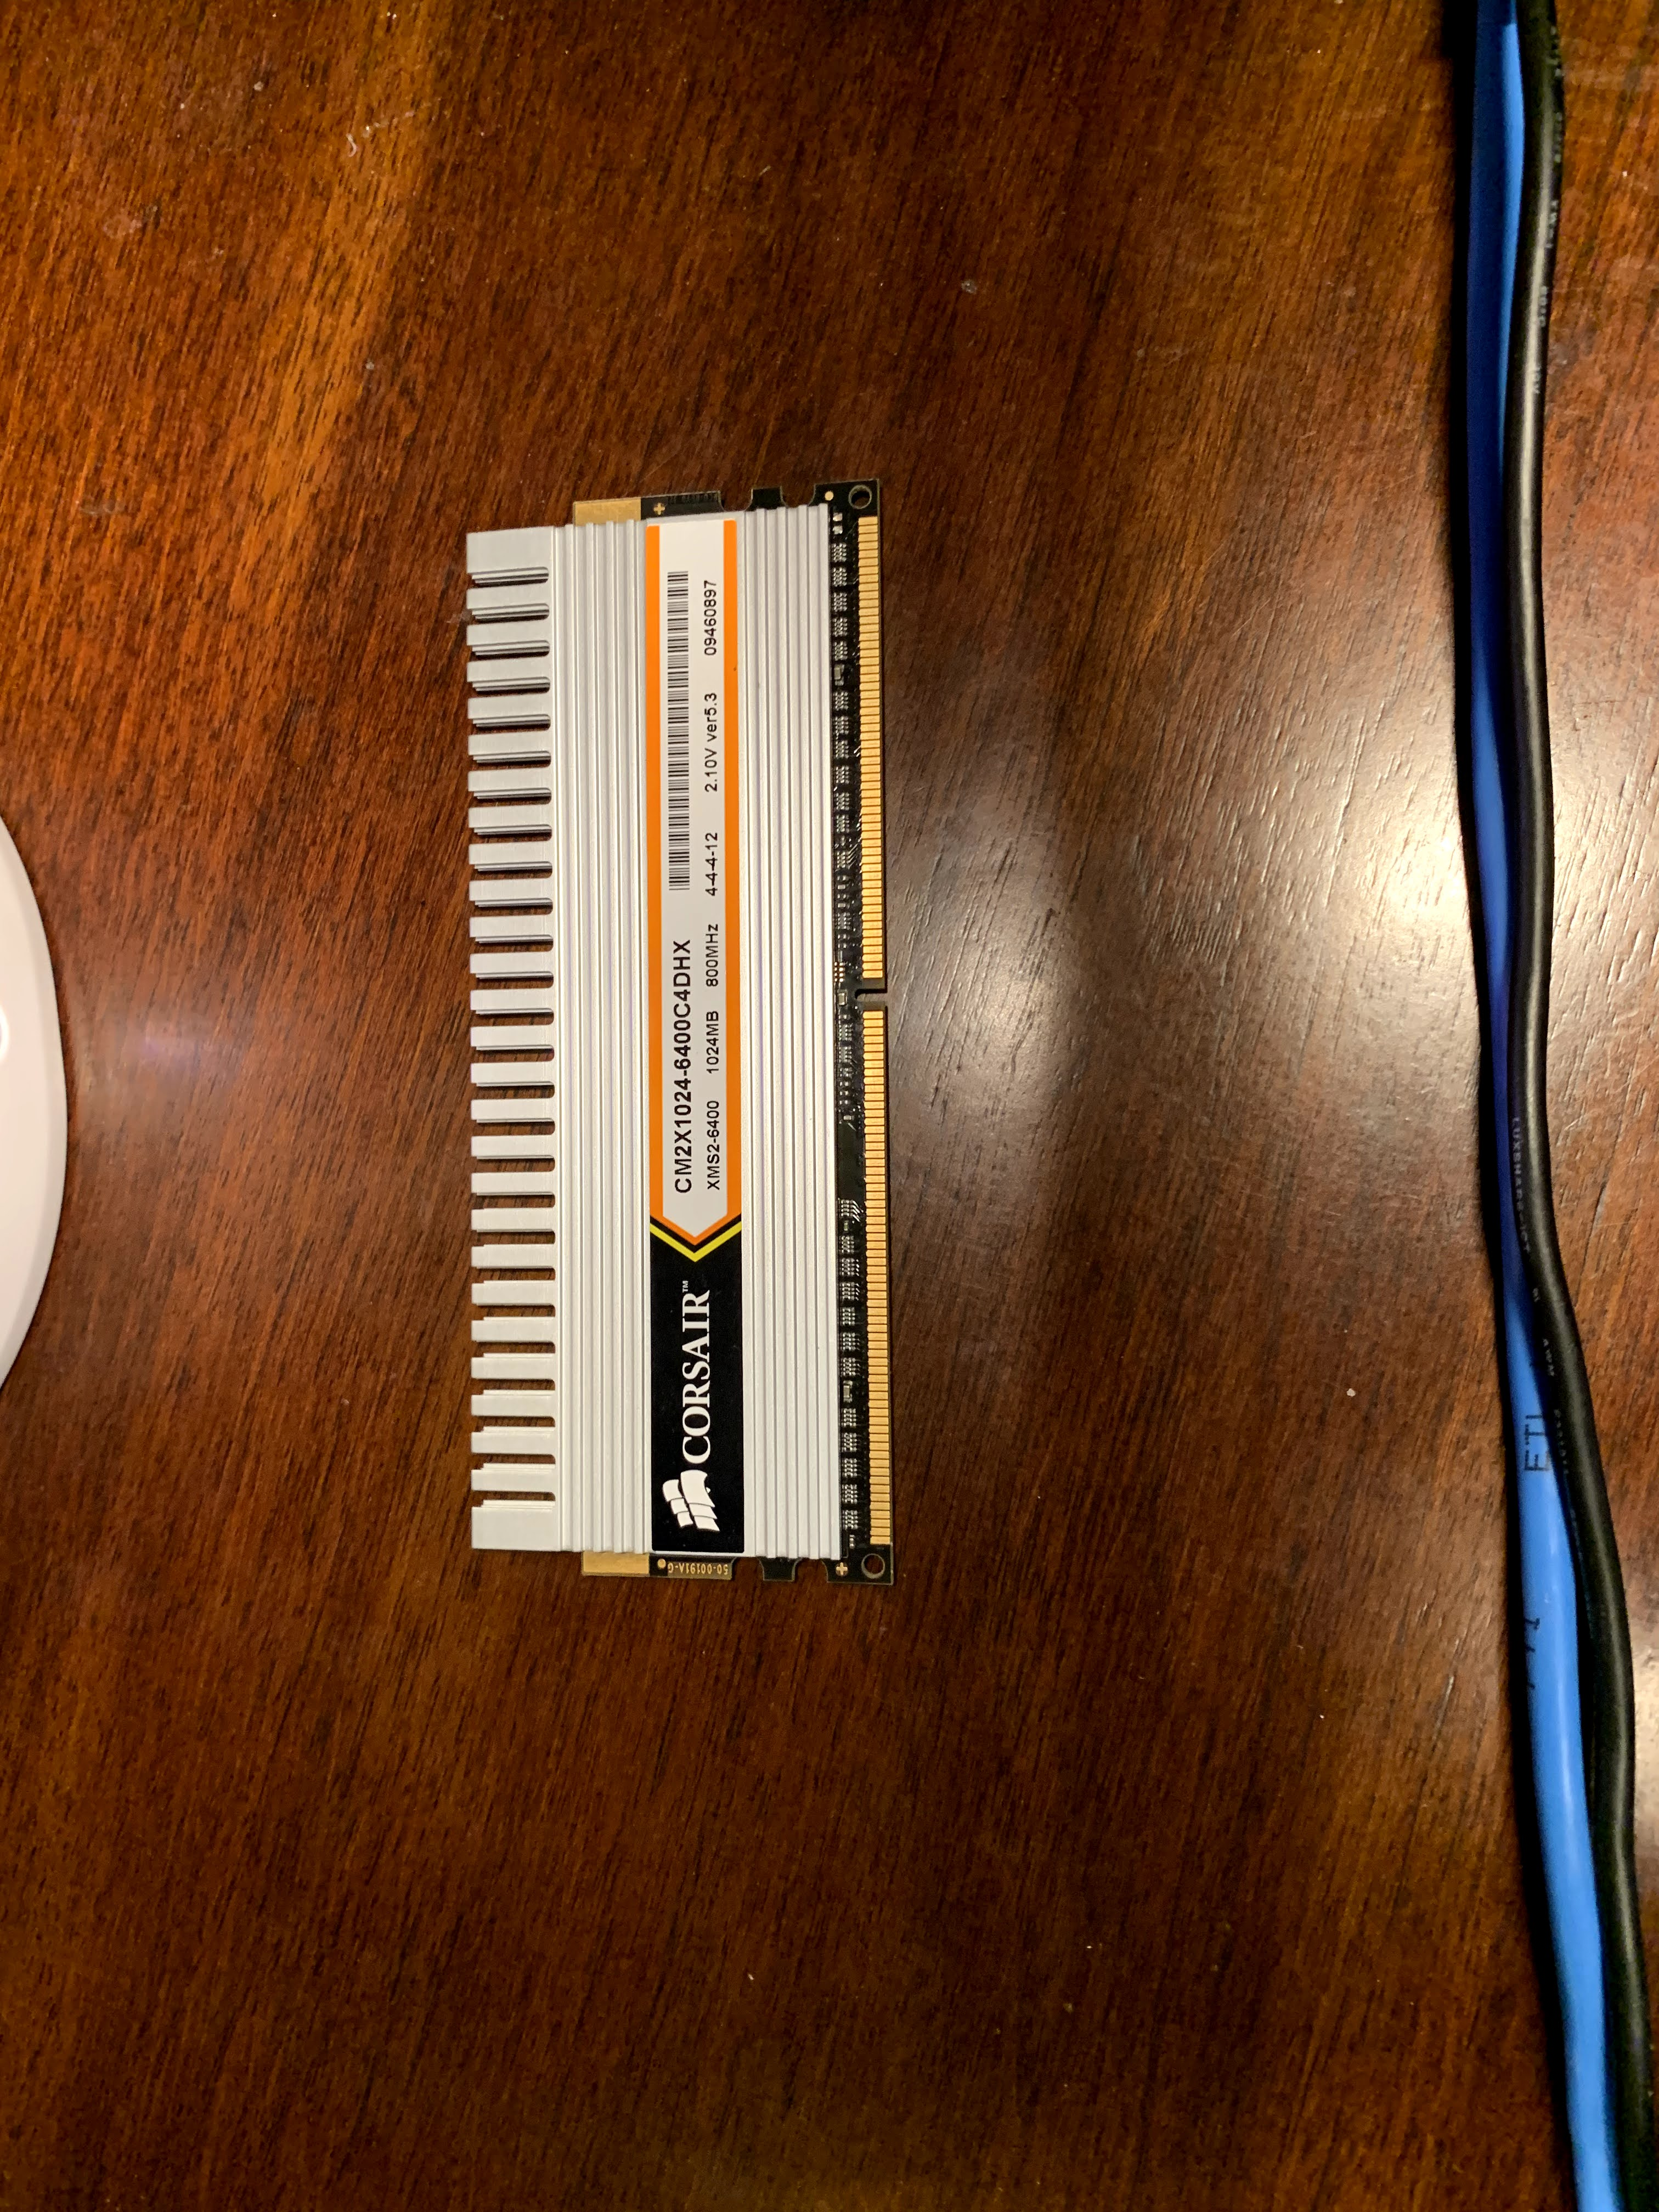Space-debris-medium: (453, 479, 913, 1608)
